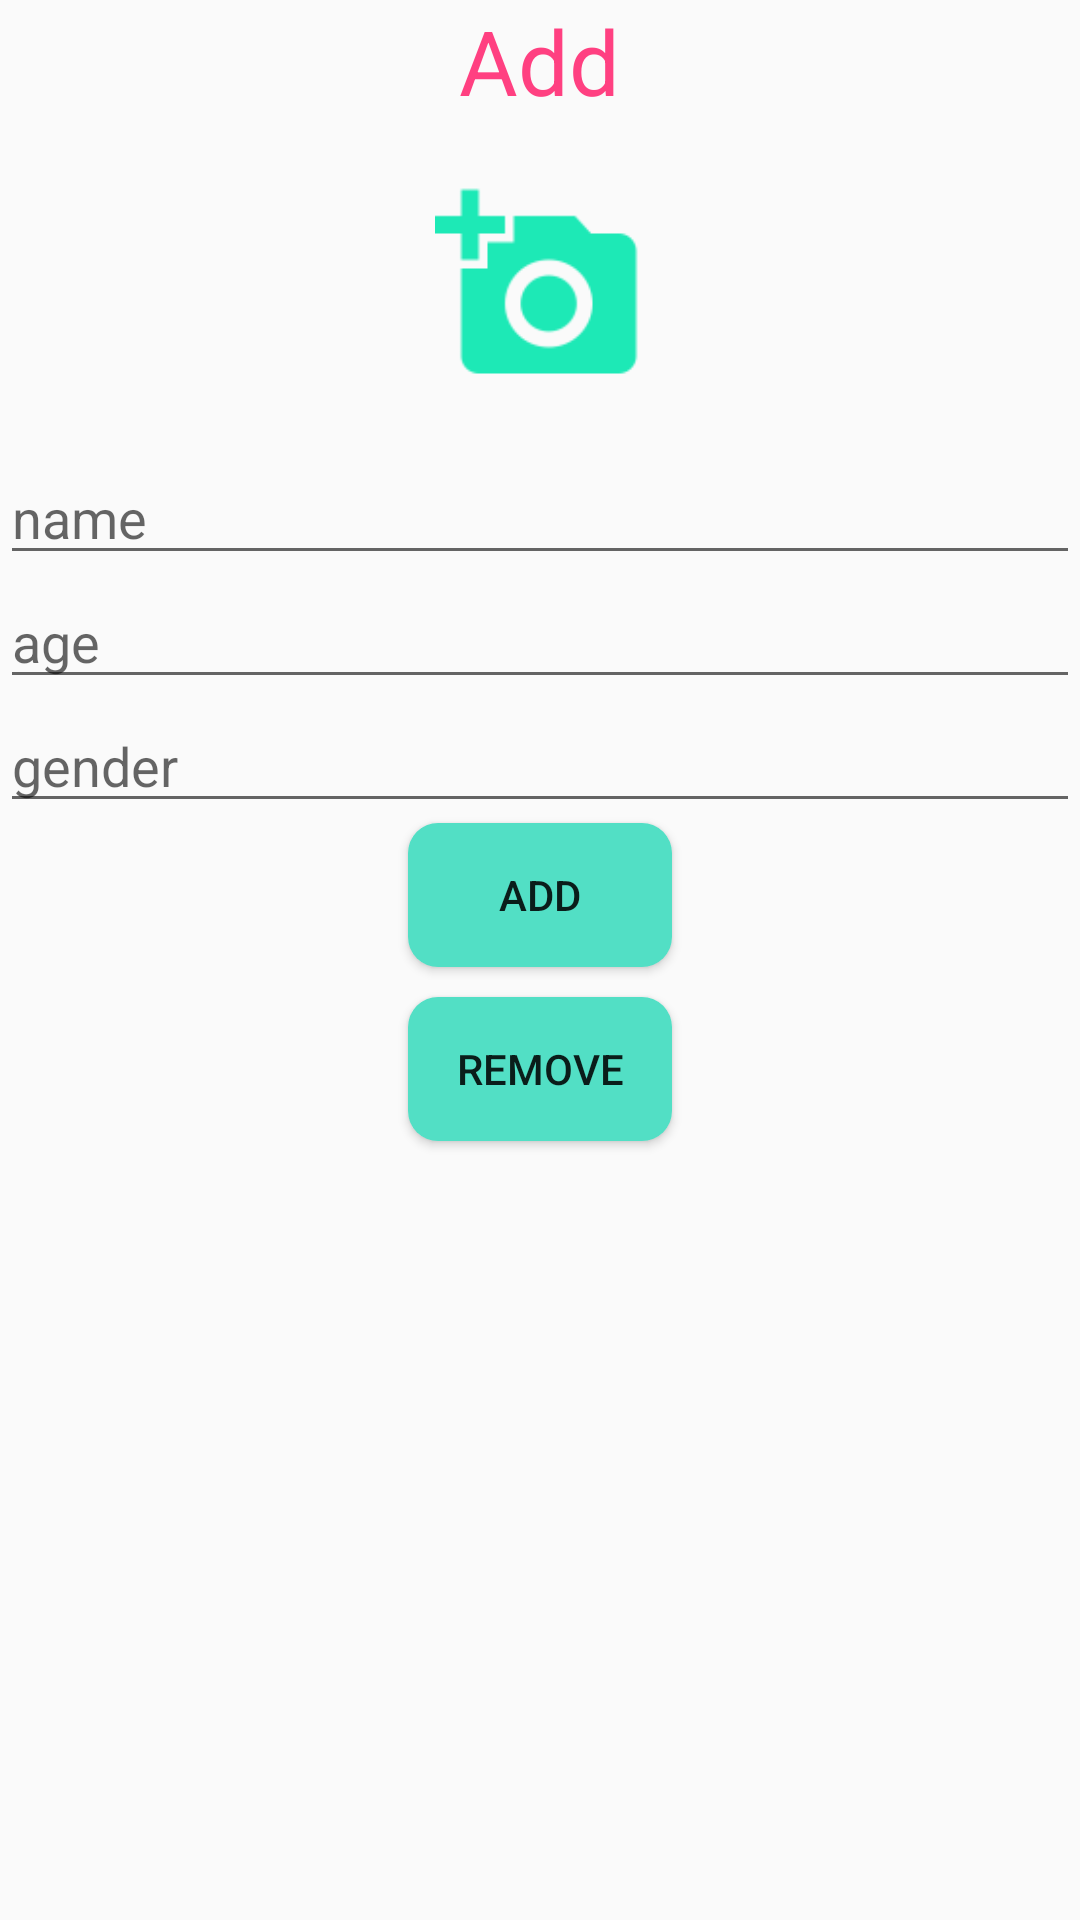

Icons on this 1080w x 1920h Android screen, each with the point to tap as [x,y]:
camera: [536,281]
